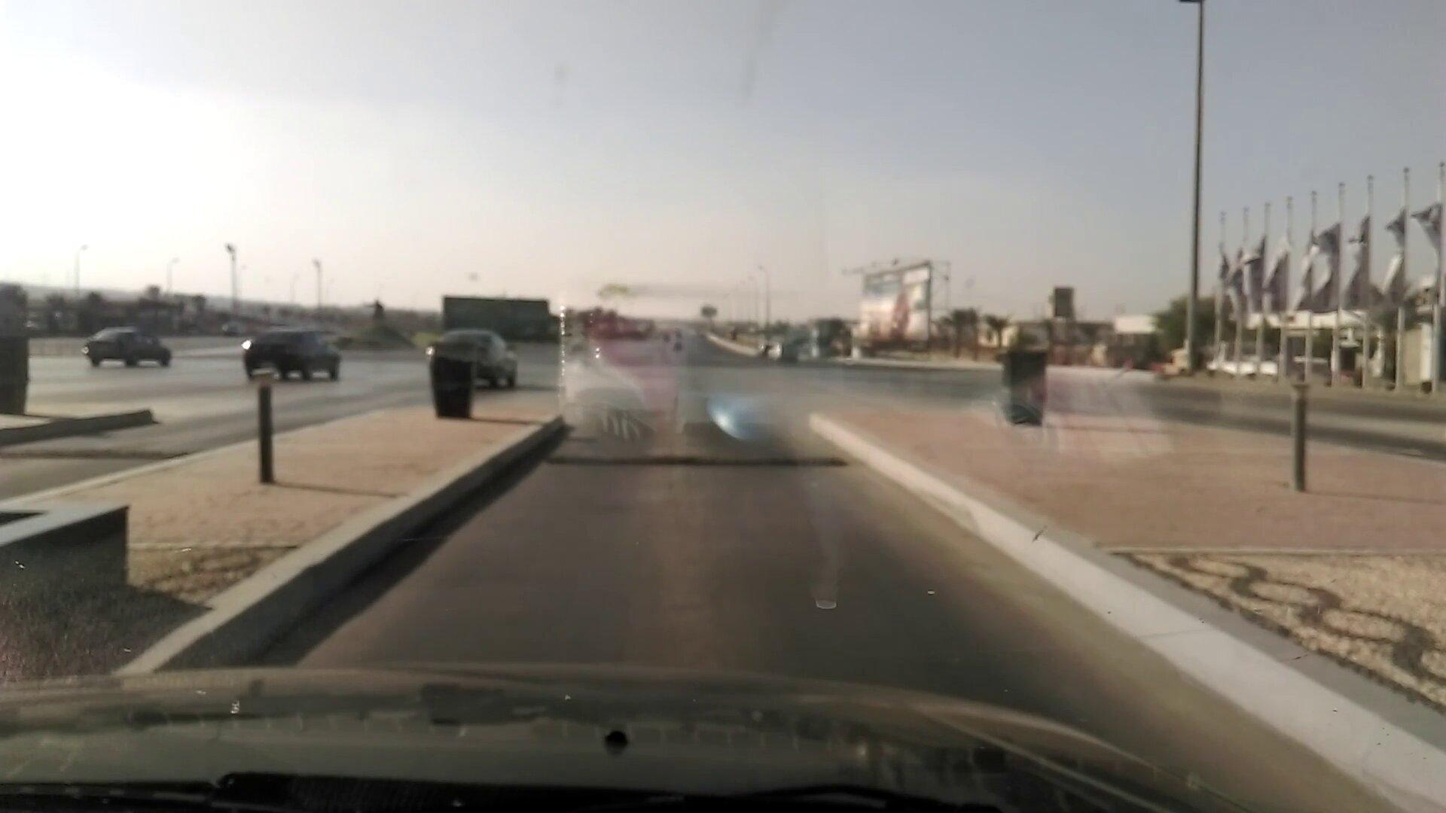Bump: (552, 450, 847, 474)
